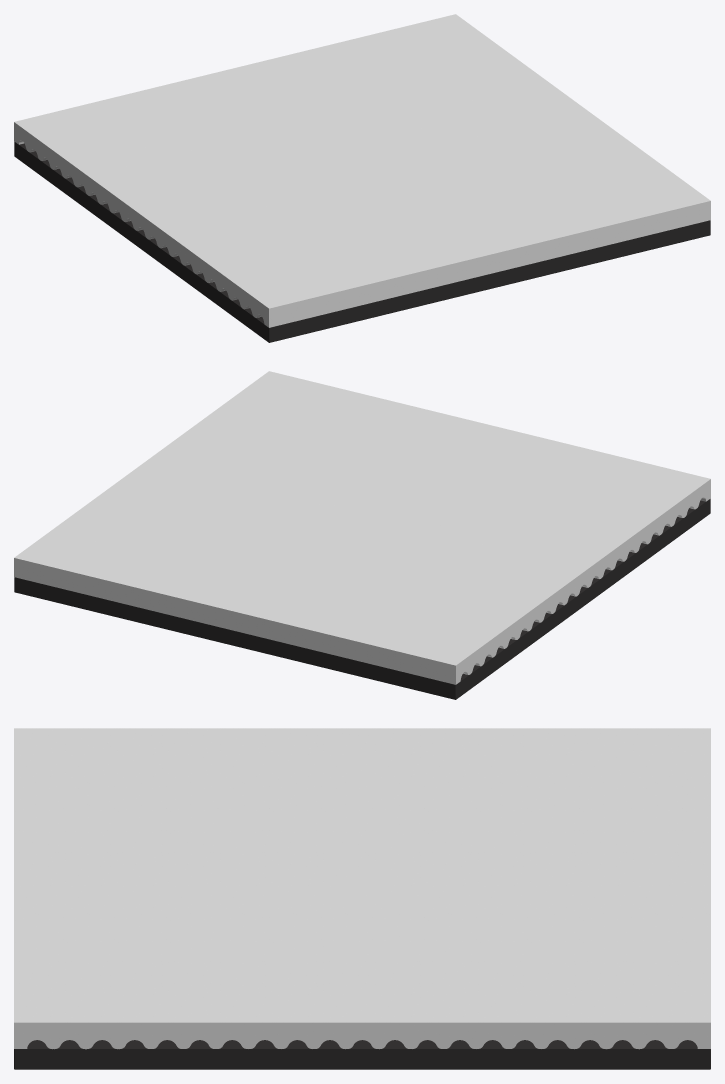
The model's file is structure_ceiling_a01.glb.
3 renders of one model, top to bottom at view 1: azimuth 30°, elevation 25°; view 2: azimuth 150°, elevation 25°; view 3: azimuth 270°, elevation 25°, orthographic. The views are drawn at different scales.
Parts seen in each view (by area): view 1: ceiling_01_mesh_00; view 2: ceiling_01_mesh_00; view 3: ceiling_01_mesh_00.
Part boxes in pixels (box(x1,y1,x2,y2)): ceiling_01_mesh_00: box(14, 14, 710, 342); ceiling_01_mesh_00: box(14, 371, 710, 699); ceiling_01_mesh_00: box(14, 728, 710, 1069).
Bounding box in the file's own units: 6 × 0.5281 × 6.
5 materials, 2 textured.
